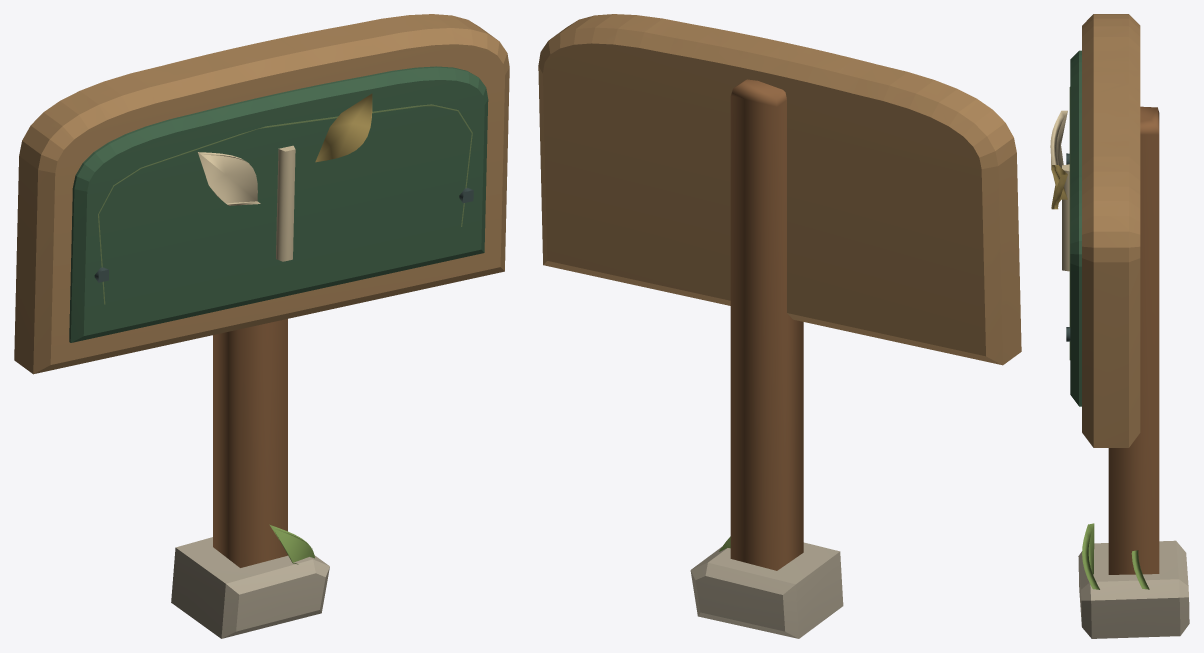
The model's file is letrero_lod.glb.
The picture shows the model from 3 angles, left to right: view 1: azimuth 30°, elevation 25°; view 2: azimuth 150°, elevation 25°; view 3: azimuth 270°, elevation 25°; orthographic projection. The views are drawn at different scales.
Visible parts, largest first — view 1: letrero; view 2: letrero; view 3: letrero.
Boxes of the visible parts, bbox=[...] form: letrero: bbox=[14, 14, 509, 638]; letrero: bbox=[538, 14, 1021, 638]; letrero: bbox=[1050, 14, 1189, 638].
Bounding box in the file's own units: 1.23 × 1.4 × 0.3358.
